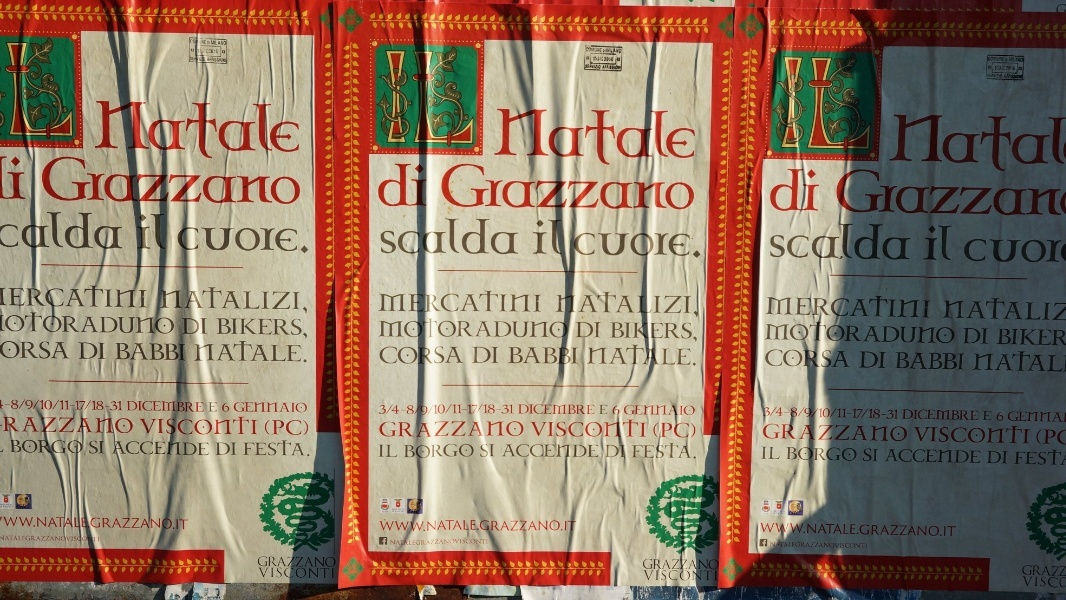text: (97, 99, 112, 167), (113, 99, 128, 167), (129, 99, 144, 167), (145, 99, 160, 167), (161, 99, 176, 167), (177, 99, 192, 167), (193, 99, 208, 167), (209, 99, 224, 167), (225, 99, 240, 167), (241, 99, 256, 167), (257, 99, 272, 167), (273, 99, 288, 167), (897, 114, 912, 174), (913, 114, 928, 174), (929, 114, 944, 174), (945, 114, 960, 174), (961, 114, 976, 174), (977, 114, 992, 174), (993, 114, 1008, 174), (1009, 114, 1024, 174), (1025, 114, 1040, 174), (1041, 114, 1056, 174), (497, 107, 512, 166), (513, 107, 528, 166), (529, 107, 544, 166), (545, 107, 560, 166), (561, 107, 576, 166), (577, 107, 592, 166), (593, 107, 608, 166), (609, 107, 624, 166), (625, 107, 640, 166), (641, 107, 656, 166), (657, 107, 672, 166), (673, 107, 688, 166), (849, 167, 864, 217), (865, 167, 880, 217), (881, 167, 896, 217), (897, 167, 912, 217), (913, 167, 928, 217), (929, 167, 944, 217), (945, 167, 960, 217), (961, 167, 976, 217), (977, 167, 992, 217), (993, 167, 1008, 217), (1009, 167, 1024, 217), (1025, 167, 1040, 217), (1041, 167, 1056, 217), (49, 155, 64, 205), (65, 155, 80, 205), (81, 155, 96, 205), (97, 155, 112, 205), (113, 155, 128, 205), (129, 155, 144, 205), (145, 155, 160, 205), (161, 155, 176, 205), (177, 155, 192, 205), (193, 155, 208, 205), (209, 155, 224, 205), (225, 155, 240, 205), (241, 155, 256, 205), (257, 155, 272, 205), (273, 155, 288, 205), (289, 99, 300, 167), (449, 163, 464, 211), (465, 163, 480, 211), (481, 163, 496, 211), (497, 163, 512, 211), (513, 163, 528, 211), (529, 163, 544, 211), (545, 163, 560, 211), (561, 163, 576, 211), (577, 163, 592, 211), (593, 163, 608, 211), (609, 163, 624, 211), (625, 163, 640, 211), (641, 163, 656, 211), (657, 163, 672, 211), (673, 163, 688, 211), (385, 161, 400, 208), (401, 161, 416, 208), (785, 168, 800, 212), (801, 168, 816, 212), (2, 155, 16, 201), (545, 218, 560, 258), (561, 218, 576, 258), (577, 218, 592, 258), (593, 218, 608, 258), (609, 218, 624, 258), (625, 218, 640, 258), (641, 218, 656, 258), (657, 218, 672, 258), (673, 218, 688, 258), (289, 155, 301, 205), (785, 221, 800, 260), (801, 221, 816, 260), (817, 221, 832, 260), (833, 221, 848, 260), (849, 221, 864, 260), (865, 221, 880, 260), (881, 221, 896, 260), (771, 168, 784, 212), (385, 218, 400, 256), (401, 218, 416, 256), (417, 218, 432, 256), (433, 218, 448, 256), (449, 218, 464, 256), (465, 218, 480, 256), (481, 218, 496, 256), (497, 218, 512, 256), (1, 212, 16, 250), (17, 212, 32, 250), (33, 212, 48, 250), (49, 212, 64, 250), (65, 212, 80, 250), (81, 212, 96, 250), (97, 212, 112, 250), (145, 214, 160, 251), (897, 221, 911, 260), (929, 225, 944, 261), (838, 167, 848, 217), (1057, 114, 1065, 174), (417, 161, 427, 208), (772, 221, 784, 260), (1057, 167, 1066, 217), (561, 290, 576, 318), (577, 290, 592, 318), (593, 290, 608, 318), (609, 290, 624, 318), (625, 290, 640, 318), (641, 290, 656, 318), (657, 290, 672, 318), (673, 290, 688, 318), (17, 155, 26, 201), (534, 218, 544, 258), (945, 295, 960, 321), (961, 295, 976, 321), (977, 295, 992, 321), (993, 295, 1008, 321), (1009, 295, 1024, 321), (1025, 295, 1040, 321), (1041, 295, 1056, 321), (161, 288, 176, 314), (177, 288, 192, 314), (193, 288, 208, 314), (209, 288, 224, 314), (225, 288, 240, 314), (241, 288, 256, 314), (257, 288, 272, 314), (273, 288, 288, 314), (289, 288, 304, 314), (193, 227, 208, 253), (209, 227, 224, 253), (225, 227, 240, 253), (241, 227, 256, 253), (257, 227, 272, 253), (273, 227, 288, 253), (289, 227, 304, 253), (113, 212, 123, 250), (977, 238, 992, 263), (993, 238, 1008, 263), (1009, 238, 1024, 263), (1025, 238, 1040, 263), (1041, 238, 1056, 263), (178, 227, 192, 253), (1, 285, 16, 309), (17, 285, 32, 309), (33, 285, 48, 309), (49, 285, 64, 309), (65, 285, 80, 309), (81, 285, 96, 309), (97, 285, 112, 309), (113, 285, 128, 309), (129, 285, 144, 309), (689, 107, 695, 166), (385, 289, 400, 312), (401, 289, 416, 312), (417, 289, 432, 312), (433, 289, 448, 312), (449, 289, 464, 312), (465, 289, 480, 312), (481, 289, 496, 312), (497, 289, 512, 312), (513, 289, 528, 312), (593, 343, 608, 366), (609, 343, 624, 366), (625, 343, 640, 366), (641, 343, 656, 366), (657, 343, 672, 366), (673, 343, 688, 366), (769, 321, 784, 344), (785, 321, 800, 344), (801, 321, 816, 344), (817, 321, 832, 344), (833, 321, 848, 344), (849, 321, 864, 344), (865, 321, 880, 344), (881, 321, 896, 344), (897, 321, 912, 344), (913, 321, 928, 344), (929, 321, 944, 344), (977, 350, 992, 372), (993, 350, 1008, 372), (1009, 350, 1024, 372), (1025, 350, 1040, 372), (1041, 350, 1056, 372), (769, 296, 784, 318), (785, 296, 800, 318), (801, 296, 816, 318), (817, 296, 832, 318), (833, 296, 848, 318), (849, 296, 864, 318), (865, 296, 880, 318), (881, 296, 896, 318), (897, 296, 912, 318), (913, 296, 928, 318), (1, 312, 16, 334), (17, 312, 32, 334), (33, 312, 48, 334), (49, 312, 64, 334), (65, 312, 80, 334), (81, 312, 96, 334), (97, 312, 112, 334), (113, 312, 128, 334), (129, 312, 144, 334), (145, 312, 160, 334), (145, 416, 160, 437), (161, 416, 176, 437), (177, 416, 192, 437), (193, 416, 208, 437), (209, 416, 224, 437), (225, 416, 240, 437), (241, 416, 256, 437), (209, 341, 224, 362), (225, 341, 240, 362), (241, 341, 256, 362), (257, 341, 272, 362), (273, 341, 288, 362), (289, 341, 304, 362), (225, 318, 240, 339), (241, 318, 256, 339), (257, 318, 272, 339), (273, 318, 288, 339), (289, 318, 304, 339), (385, 318, 400, 338), (401, 318, 416, 338), (417, 318, 432, 338), (433, 318, 448, 338), (449, 318, 464, 338), (465, 318, 480, 338), (481, 318, 496, 338), (497, 318, 512, 338), (513, 318, 528, 338), (529, 318, 544, 338), (545, 318, 560, 338), (625, 322, 640, 342), (641, 322, 656, 342), (657, 322, 672, 342), (673, 322, 688, 342), (529, 289, 542, 312), (442, 163, 448, 211), (161, 312, 174, 334), (385, 345, 400, 364), (401, 345, 416, 364), (417, 345, 432, 364), (433, 345, 448, 364), (449, 345, 464, 364), (769, 349, 784, 368), (785, 349, 800, 368), (801, 349, 816, 368), (817, 349, 832, 368), (833, 349, 848, 368), (897, 351, 912, 370), (913, 351, 928, 370), (929, 351, 944, 370), (945, 351, 960, 370), (1, 341, 16, 360), (17, 341, 32, 360), (33, 341, 48, 360), (49, 341, 64, 360), (689, 290, 699, 318), (610, 322, 624, 342), (965, 238, 976, 263), (545, 419, 560, 437), (561, 419, 576, 437), (577, 419, 592, 437), (593, 419, 608, 437), (609, 419, 624, 437), (625, 419, 640, 437), (929, 425, 944, 443), (945, 425, 960, 443), (961, 425, 976, 443), (977, 425, 992, 443), (993, 425, 1008, 443), (1009, 425, 1024, 443), (865, 351, 880, 369), (129, 441, 144, 459), (145, 441, 160, 459), (161, 441, 176, 459), (177, 441, 192, 459), (193, 441, 208, 459), (129, 343, 144, 361), (145, 343, 160, 361), (161, 343, 176, 361), (81, 342, 96, 360), (481, 347, 496, 364), (513, 347, 528, 364), (529, 347, 544, 364), (545, 347, 560, 364), (561, 347, 576, 364), (641, 442, 656, 459), (657, 442, 672, 459), (673, 442, 688, 459), (833, 424, 848, 441), (849, 424, 864, 441), (865, 424, 880, 441), (881, 424, 896, 441), (1009, 329, 1024, 346), (1025, 329, 1040, 346), (1041, 329, 1056, 346), (49, 417, 64, 434), (65, 417, 80, 434), (81, 417, 96, 434), (97, 417, 112, 434), (113, 417, 128, 434), (945, 225, 952, 261), (114, 441, 128, 459), (196, 341, 208, 362), (43, 155, 48, 205), (689, 163, 694, 211), (577, 322, 592, 338), (657, 422, 672, 438), (673, 422, 688, 438), (385, 421, 400, 437), (769, 423, 784, 439), (1025, 449, 1040, 465), (1041, 449, 1056, 465), (257, 440, 272, 456), (273, 440, 288, 456), (289, 440, 304, 456), (531, 419, 544, 437), (915, 425, 928, 443), (1057, 295, 1066, 321), (115, 343, 128, 361), (945, 321, 955, 344), (513, 218, 519, 256), (417, 443, 432, 458), (433, 443, 448, 458), (449, 443, 464, 458), (449, 421, 464, 436), (465, 421, 480, 436), (481, 421, 496, 436), (497, 421, 512, 436), (1057, 238, 1066, 263), (273, 420, 288, 435), (289, 420, 304, 435), (17, 440, 32, 455), (33, 440, 48, 455), (49, 440, 64, 455), (65, 440, 80, 455), (193, 318, 207, 334), (138, 214, 144, 251), (801, 447, 816, 461), (817, 447, 832, 461), (833, 447, 848, 461), (913, 449, 928, 463), (929, 449, 944, 463), (945, 449, 960, 463), (961, 449, 976, 463), (769, 523, 784, 537), (785, 523, 800, 537), (801, 523, 816, 537), (817, 523, 832, 537), (833, 523, 848, 537), (849, 523, 864, 537), (865, 523, 880, 537), (881, 523, 896, 537), (897, 523, 912, 537), (913, 523, 928, 537), (929, 523, 944, 537), (1, 517, 16, 531), (17, 517, 32, 531), (33, 517, 48, 531), (49, 517, 64, 531), (65, 517, 80, 531), (81, 517, 96, 531), (97, 517, 112, 531), (113, 517, 128, 531), (129, 517, 144, 531), (145, 517, 160, 531), (161, 517, 176, 531), (401, 421, 414, 437), (993, 451, 1009, 464), (820, 424, 832, 441), (804, 425, 816, 442), (1057, 350, 1066, 372), (481, 443, 495, 457), (898, 449, 912, 463), (609, 445, 624, 458), (513, 444, 528, 457), (529, 444, 544, 457), (545, 444, 560, 457), (561, 444, 576, 457), (577, 444, 592, 457), (385, 445, 400, 458), (435, 421, 448, 436), (769, 407, 784, 420), (785, 407, 800, 420), (801, 407, 816, 420), (817, 407, 832, 420), (833, 407, 848, 420), (849, 407, 864, 420), (865, 407, 880, 420), (881, 407, 896, 420), (785, 423, 797, 439), (964, 328, 976, 344), (244, 440, 256, 456), (380, 161, 384, 208), (897, 424, 908, 441), (787, 447, 800, 461), (177, 517, 190, 531), (689, 322, 698, 342), (625, 404, 640, 416), (641, 404, 656, 416), (657, 404, 672, 416), (673, 404, 688, 416), (404, 443, 416, 458), (1025, 565, 1040, 577), (1041, 565, 1056, 577), (273, 557, 288, 569), (289, 557, 304, 569), (305, 557, 320, 569), (321, 557, 336, 569), (1, 400, 16, 412), (17, 400, 32, 412), (33, 400, 48, 412), (49, 400, 64, 412), (65, 400, 80, 412), (81, 400, 96, 412), (97, 400, 112, 412), (977, 328, 988, 344), (817, 168, 821, 212), (998, 329, 1008, 346), (769, 447, 782, 460), (865, 448, 878, 461), (258, 557, 272, 569), (529, 404, 544, 415), (545, 404, 560, 415), (561, 404, 576, 415), (577, 404, 592, 415), (513, 421, 524, 436), (913, 409, 928, 420), (929, 409, 944, 420), (945, 409, 960, 420), (961, 409, 976, 420), (1009, 411, 1024, 422), (1025, 411, 1040, 422), (1041, 411, 1056, 422), (1025, 577, 1040, 588), (1041, 577, 1056, 588), (657, 559, 672, 570), (673, 559, 688, 570), (689, 559, 704, 570), (273, 569, 288, 580), (289, 569, 304, 580), (305, 569, 320, 580), (129, 401, 144, 412), (145, 401, 160, 412), (161, 401, 176, 412), (177, 401, 192, 412), (241, 402, 256, 413), (257, 402, 272, 413), (273, 402, 288, 413), (289, 402, 304, 413), (385, 404, 400, 415), (401, 404, 416, 415), (417, 404, 432, 415), (433, 404, 448, 415), (449, 404, 464, 415), (465, 404, 480, 415), (481, 404, 496, 415), (497, 404, 512, 415), (97, 342, 106, 360), (689, 343, 696, 366), (561, 521, 577, 531), (182, 318, 192, 334), (225, 442, 237, 455), (421, 423, 432, 437), (705, 559, 719, 570), (1057, 329, 1066, 346), (657, 570, 672, 580), (673, 570, 688, 580), (689, 570, 704, 580), (385, 521, 400, 531), (401, 521, 416, 531), (417, 521, 432, 531), (433, 521, 448, 531), (449, 521, 464, 531), (465, 521, 480, 531), (481, 521, 496, 531), (497, 521, 512, 531), (513, 521, 528, 531), (529, 521, 544, 531), (545, 521, 560, 531), (209, 402, 224, 412), (161, 214, 165, 251), (137, 416, 144, 437), (217, 318, 224, 339), (1015, 449, 1024, 465), (1057, 449, 1066, 465), (177, 343, 185, 361), (643, 559, 656, 570), (259, 569, 272, 580), (321, 569, 334, 580), (561, 318, 568, 338), (945, 523, 955, 537), (472, 347, 480, 364), (632, 442, 640, 459), (689, 442, 697, 459), (465, 443, 474, 458), (705, 570, 718, 580), (193, 401, 204, 412), (894, 114, 896, 174), (644, 570, 656, 580), (97, 440, 105, 455), (193, 39, 208, 47), (209, 39, 224, 47), (381, 218, 384, 256), (593, 322, 600, 338), (689, 422, 696, 438), (849, 447, 857, 461), (641, 419, 647, 437), (1025, 425, 1031, 443), (925, 225, 928, 261), (1057, 565, 1066, 577), (113, 400, 122, 412), (265, 420, 272, 435), (305, 318, 310, 339), (216, 442, 224, 455), (305, 288, 309, 314), (305, 227, 309, 253), (42, 417, 48, 434), (519, 404, 528, 415), (903, 409, 912, 420), (1057, 411, 1066, 422), (1057, 577, 1066, 588), (761, 523, 768, 537), (305, 440, 311, 456), (65, 341, 70, 360), (380, 289, 384, 312), (588, 343, 592, 366), (614, 406, 624, 415), (998, 412, 1008, 421), (785, 542, 800, 548), (801, 542, 816, 548), (817, 542, 832, 548), (833, 542, 848, 548), (849, 542, 864, 548), (881, 351, 886, 369), (401, 539, 416, 545), (417, 539, 432, 545), (433, 539, 448, 545), (449, 539, 464, 545), (465, 539, 480, 545), (90, 440, 96, 455), (1, 536, 16, 542), (17, 536, 32, 542), (33, 536, 48, 542), (49, 536, 64, 542), (65, 536, 80, 542), (81, 536, 96, 542), (593, 48, 608, 54), (129, 417, 134, 434), (557, 290, 560, 318), (305, 341, 309, 362), (689, 218, 691, 258), (380, 318, 384, 338), (600, 404, 608, 414), (506, 444, 512, 457), (593, 444, 599, 457), (762, 447, 768, 460), (771, 542, 784, 548), (11, 440, 16, 455), (593, 56, 608, 61), (993, 57, 1008, 62), (689, 404, 695, 416), (984, 412, 992, 421), (860, 351, 864, 369), (609, 48, 621, 54), (1009, 57, 1023, 62), (929, 296, 932, 318), (379, 445, 384, 458), (995, 65, 1008, 70), (380, 421, 384, 437), (764, 423, 768, 439), (209, 58, 224, 62), (609, 65, 621, 70), (381, 345, 384, 364), (961, 351, 964, 370), (977, 449, 981, 463), (235, 402, 240, 413), (379, 404, 384, 415), (391, 539, 400, 545), (193, 57, 206, 61), (1009, 74, 1022, 78), (764, 407, 768, 420), (509, 347, 512, 364), (225, 402, 230, 412), (198, 49, 208, 54), (653, 422, 656, 438), (145, 285, 147, 309), (305, 420, 308, 435), (209, 49, 218, 54), (974, 350, 976, 372), (380, 521, 384, 531), (593, 64, 601, 69), (989, 451, 992, 464), (897, 407, 900, 420), (766, 349, 768, 368), (481, 539, 487, 545), (993, 74, 1002, 78), (305, 402, 308, 413), (81, 440, 83, 455), (587, 48, 592, 54), (586, 64, 592, 69), (1009, 65, 1015, 70), (606, 445, 608, 458), (609, 56, 614, 61), (603, 65, 608, 70), (593, 404, 595, 415), (977, 409, 979, 420), (257, 416, 258, 437), (987, 74, 992, 78), (849, 349, 850, 368), (895, 351, 896, 370), (209, 441, 210, 459), (79, 342, 80, 360), (497, 347, 498, 364), (577, 347, 578, 364), (1004, 74, 1008, 78), (989, 57, 992, 62), (385, 538, 387, 545), (625, 445, 626, 458), (865, 542, 867, 548), (1023, 565, 1024, 577), (97, 536, 99, 542), (1023, 577, 1024, 588), (127, 401, 128, 412), (513, 404, 514, 415), (223, 402, 224, 412), (191, 39, 192, 47), (225, 39, 226, 47), (190, 57, 192, 61), (383, 538, 384, 545), (225, 58, 226, 62)
